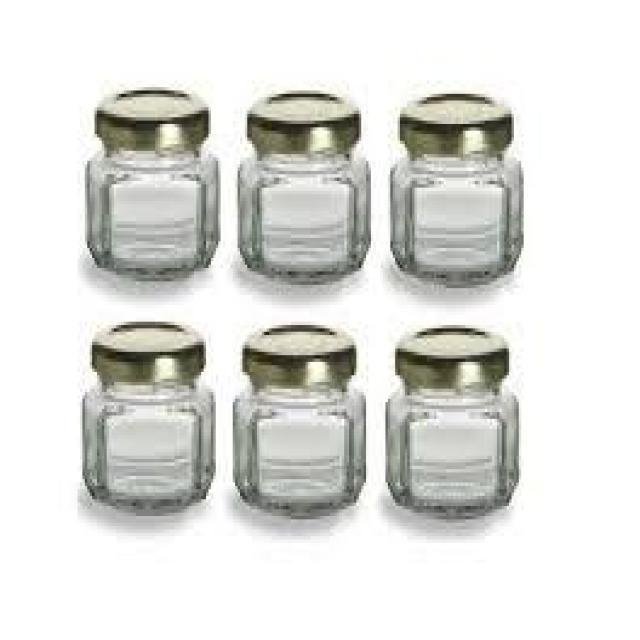Glass: (235, 87, 372, 293), (389, 88, 526, 290), (232, 319, 368, 522), (383, 324, 522, 522), (85, 84, 222, 284), (80, 316, 216, 516)
